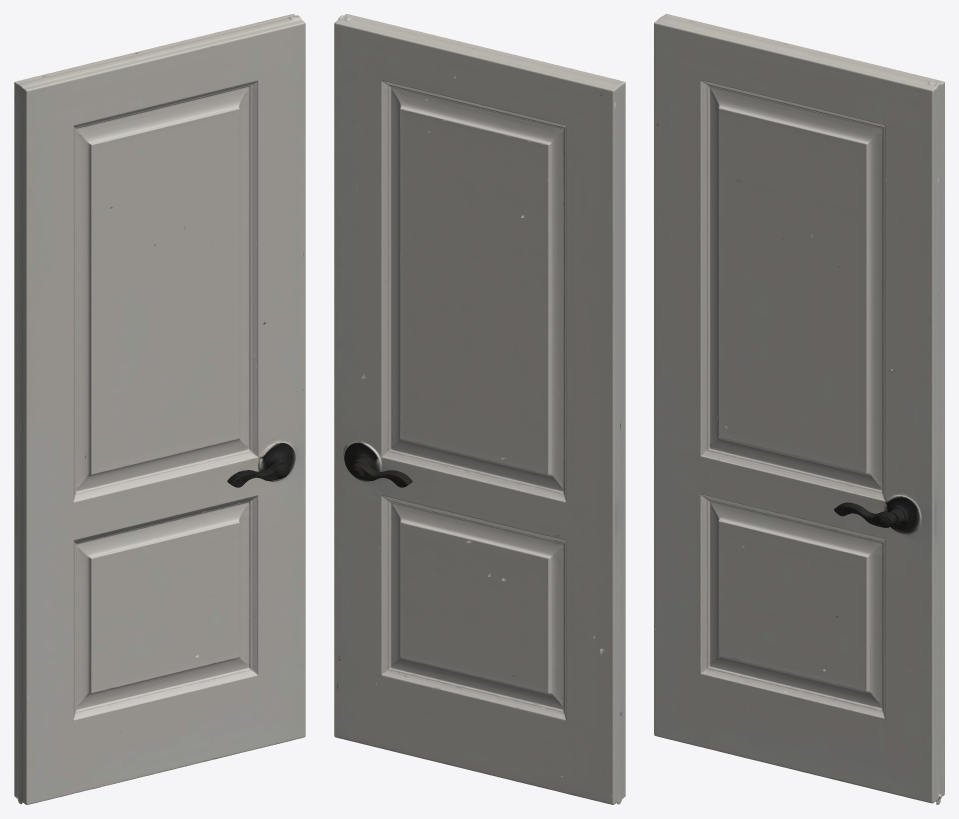
3 views of the same model, side by side, from view 1: azimuth 30°, elevation 25°; view 2: azimuth 150°, elevation 25°; view 3: azimuth 330°, elevation 25° (orthographic).
Visible parts, largest first — view 1: material; view 2: material; view 3: material.
Boxes of the visible parts, x1,y1,x2,y2 form: material: (14, 14, 305, 804); material: (334, 14, 625, 804); material: (654, 14, 944, 804).
Size of the model in its own units: 0.4556 by 1.11 by 0.1128.
Materials: 1 (1 with a texture image).
